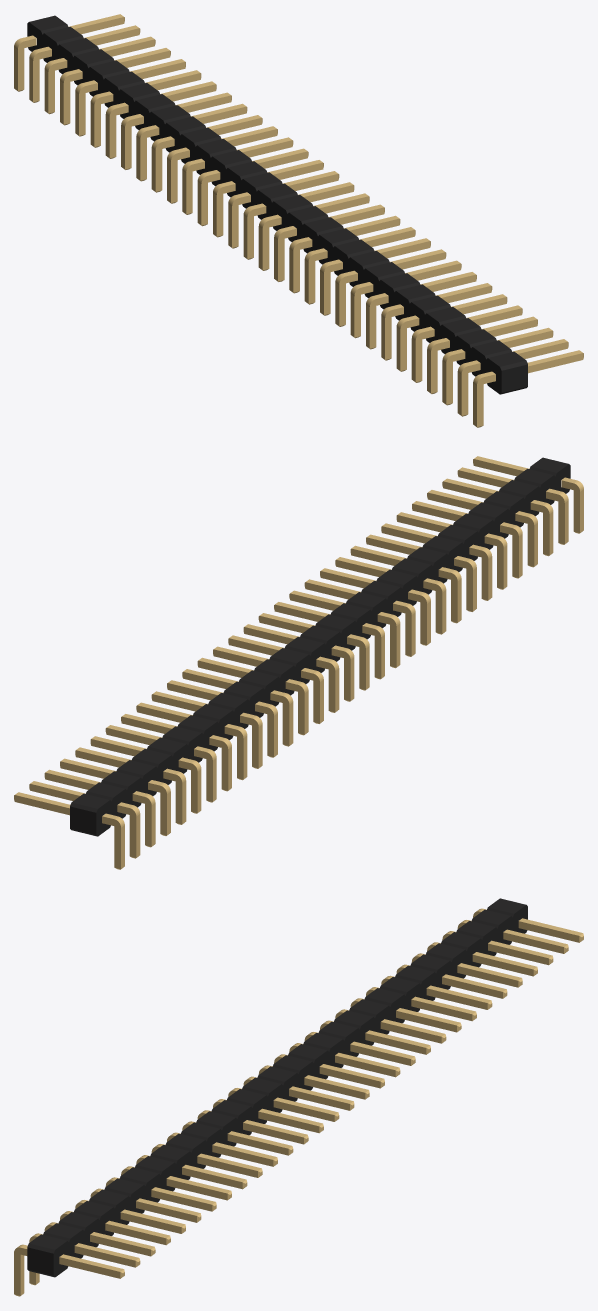
The model's file is kc-pinheader_1x31_p2.54mm_horizontal.glb.
The picture shows the model from 3 angles, top to bottom: view 1: azimuth 30°, elevation 25°; view 2: azimuth 150°, elevation 25°; view 3: azimuth 330°, elevation 25°; orthographic projection.
Parts seen in each view (by area): view 1: 0.75_0.5_0.25_0.9, 0_0_0_0; view 2: 0.75_0.5_0.25_0.9, 0_0_0_0; view 3: 0.75_0.5_0.25_0.9, 0_0_0_0.
Part boxes in pixels (x1=…): 0.75_0.5_0.25_0.9: x1=14, y1=14, x2=583, y2=427; 0_0_0_0: x1=27, y1=15, x2=527, y2=394; 0.75_0.5_0.25_0.9: x1=14, y1=456, x2=583, y2=869; 0_0_0_0: x1=70, y1=457, x2=570, y2=836; 0.75_0.5_0.25_0.9: x1=14, y1=908, x2=583, y2=1296; 0_0_0_0: x1=27, y1=898, x2=527, y2=1277.
Bounding box in the file's own units: 1.04 × 0.5537 × 7.87.
